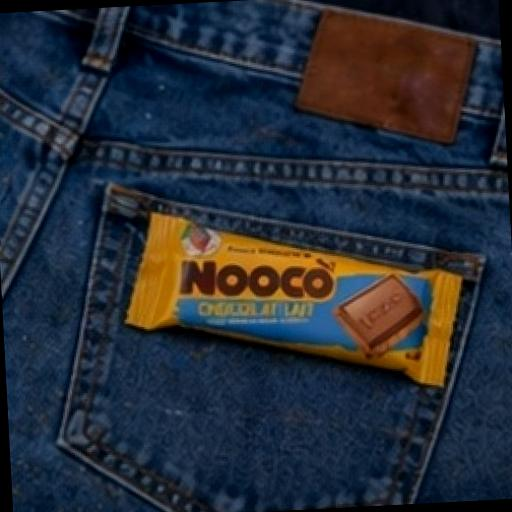biscuit-detection: (124, 146, 475, 442)
